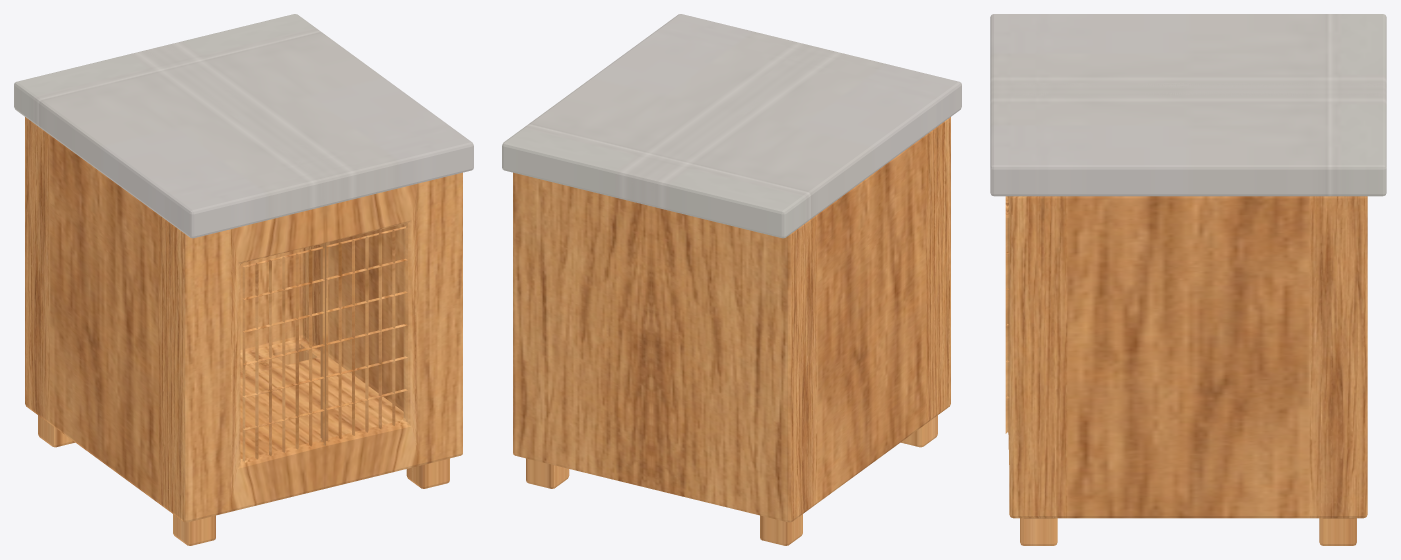
Rendered from counter.glb.
3 views of the same model, side by side, from view 1: azimuth 30°, elevation 25°; view 2: azimuth 150°, elevation 25°; view 3: azimuth 270°, elevation 25° (orthographic). The views are drawn at different scales.
Visible parts, largest first — view 1: counter.002; view 2: counter.002; view 3: counter.002.
Part boxes in pixels (box(x1,y1,x2,y2)): counter.002: box(14, 14, 473, 545); counter.002: box(502, 14, 961, 545); counter.002: box(990, 14, 1386, 545).
Bounding box in the file's own units: 2.03 × 2.38 × 2.21.
Materials: 2 (2 with a texture image).
